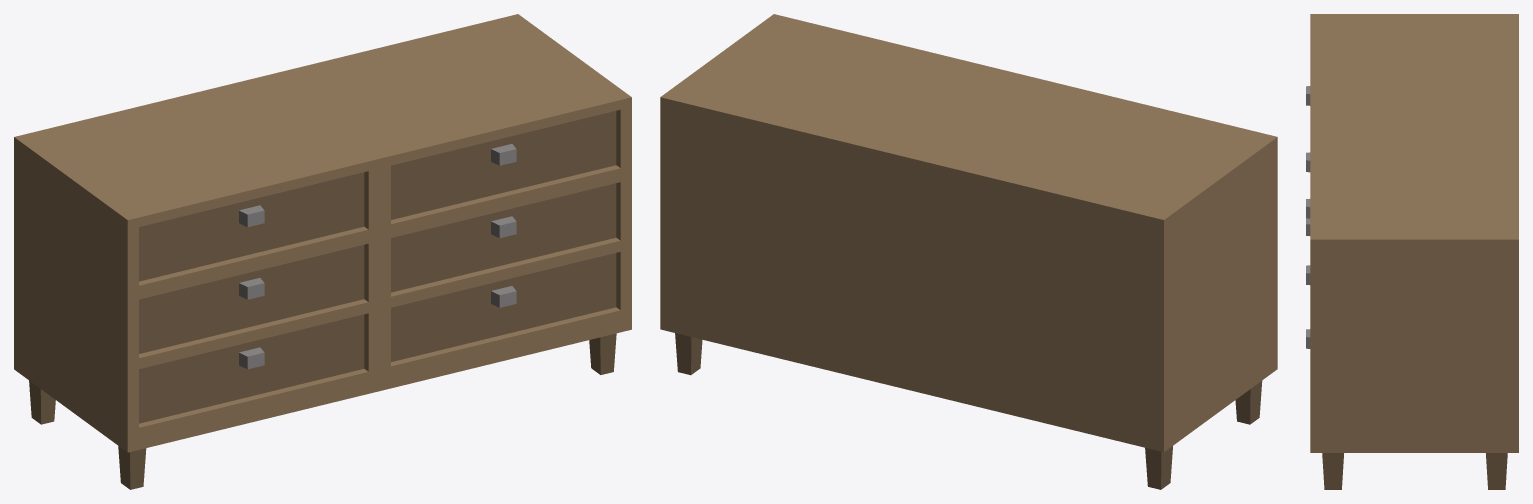
The model's file is SM_Prop_Dresser_03_Combined.fbx.
3 renders of one model, left to right at view 1: azimuth 30°, elevation 25°; view 2: azimuth 150°, elevation 25°; view 3: azimuth 270°, elevation 25°, orthographic. The views are drawn at different scales.
Visible parts, largest first — view 1: SM_Prop_Dresser_03_Combined; view 2: SM_Prop_Dresser_03_Combined; view 3: SM_Prop_Dresser_03_Combined.
Boxes of the visible parts, x1,y1,x2,y2 form: SM_Prop_Dresser_03_Combined: [14, 14, 631, 489]; SM_Prop_Dresser_03_Combined: [660, 14, 1277, 489]; SM_Prop_Dresser_03_Combined: [1306, 14, 1518, 489].
Size of the model in its own units: 187 by 98.72 by 74.71.
